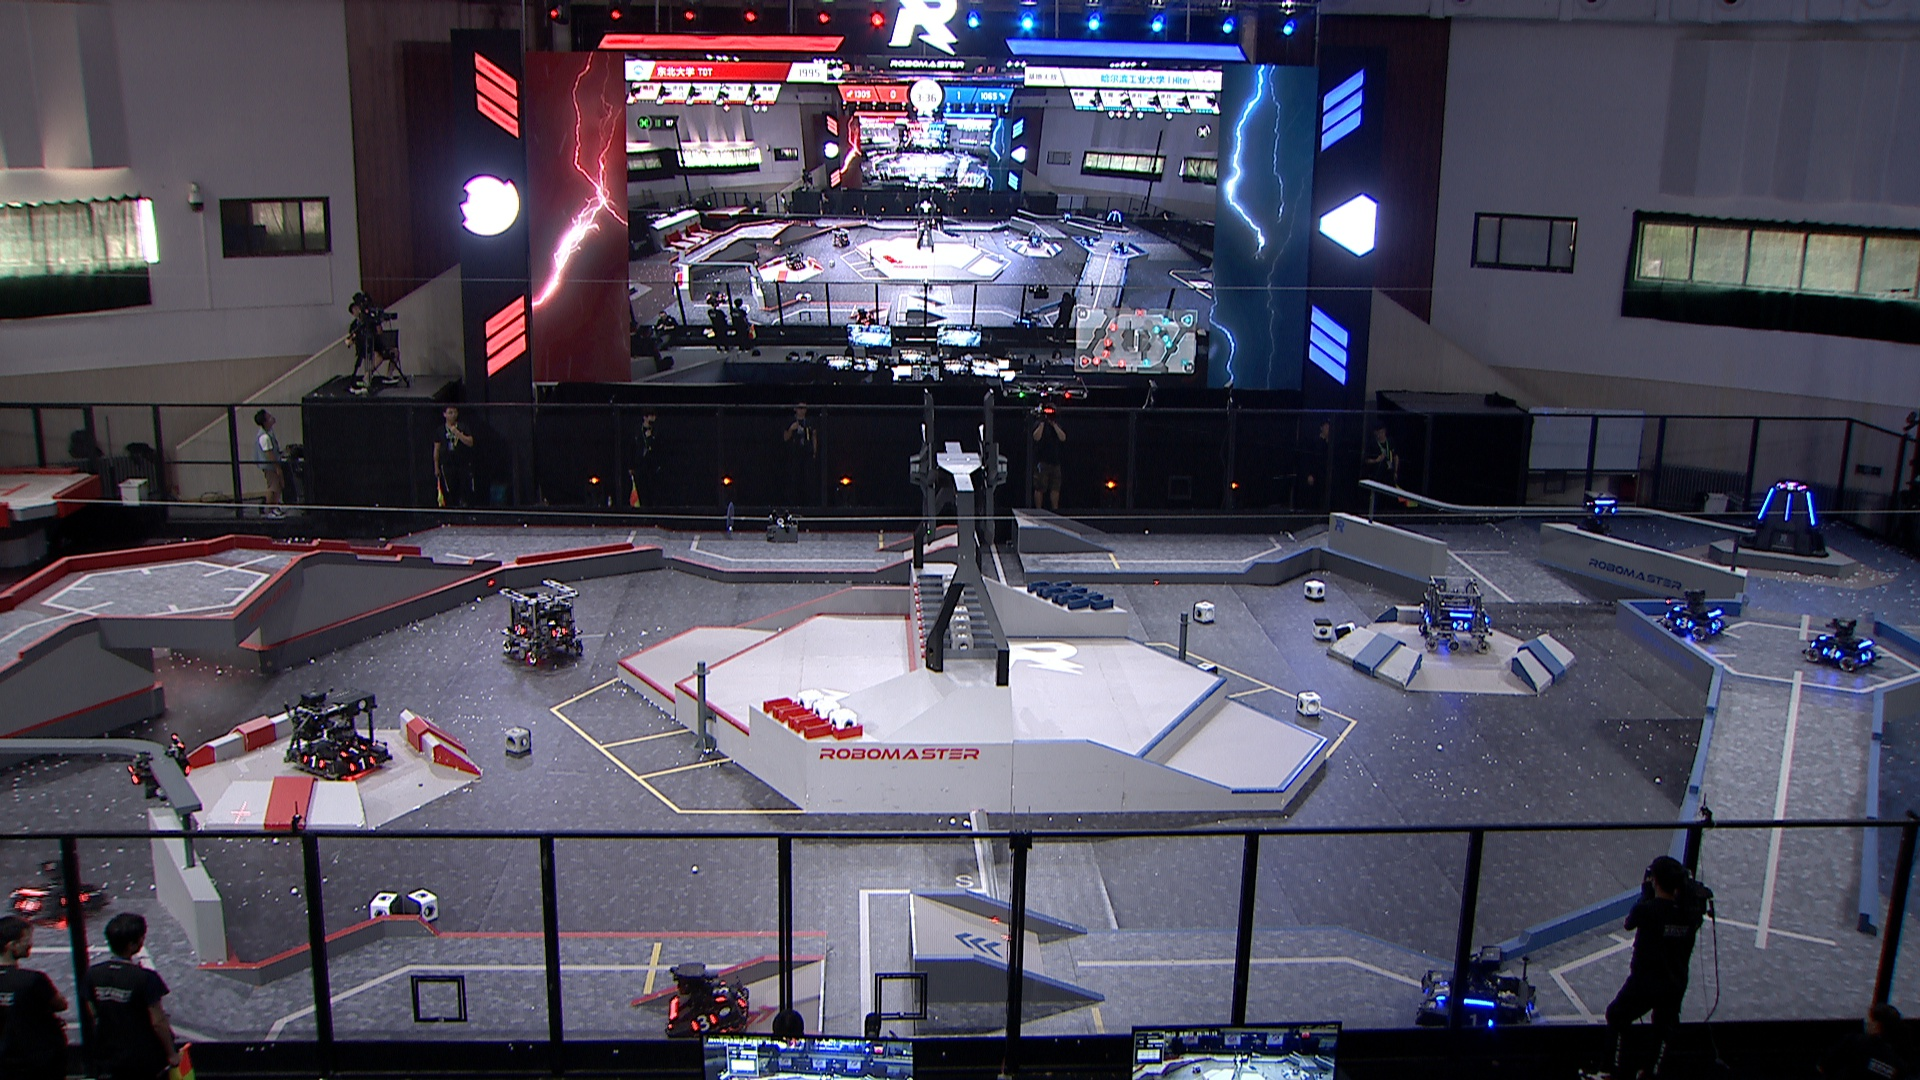armor: (684, 1007, 717, 1036), (1461, 1007, 1498, 1033), (344, 752, 378, 777), (1803, 489, 1822, 527), (338, 738, 371, 761), (707, 975, 732, 1004), (1432, 978, 1456, 1006), (1519, 993, 1538, 1027), (1756, 488, 1776, 520), (301, 750, 327, 771), (13, 895, 40, 916), (1589, 501, 1618, 520), (124, 764, 145, 789), (736, 982, 754, 1007), (1669, 613, 1695, 632), (1782, 493, 1795, 527), (1822, 642, 1844, 662), (1858, 646, 1878, 665), (1708, 615, 1727, 633), (1451, 617, 1472, 633), (550, 626, 568, 641), (509, 622, 527, 637)
base: (1735, 477, 1833, 559)
car: (1416, 945, 1544, 1040), (278, 688, 394, 783), (498, 576, 588, 671), (659, 956, 756, 1040), (1411, 568, 1495, 655), (7, 856, 105, 927), (1650, 585, 1733, 644), (1803, 612, 1883, 670)
ignore: (851, 305, 882, 328), (698, 285, 731, 306), (1025, 225, 1044, 251), (785, 249, 806, 272), (828, 229, 851, 251), (1102, 210, 1126, 229), (1778, 480, 1808, 495)
watcher: (123, 731, 195, 803), (1582, 487, 1621, 537)
